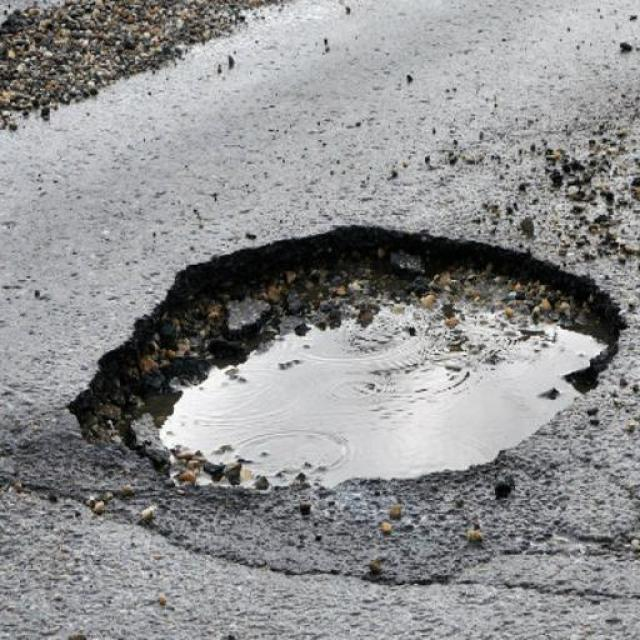puddle: (217, 286, 597, 524)
